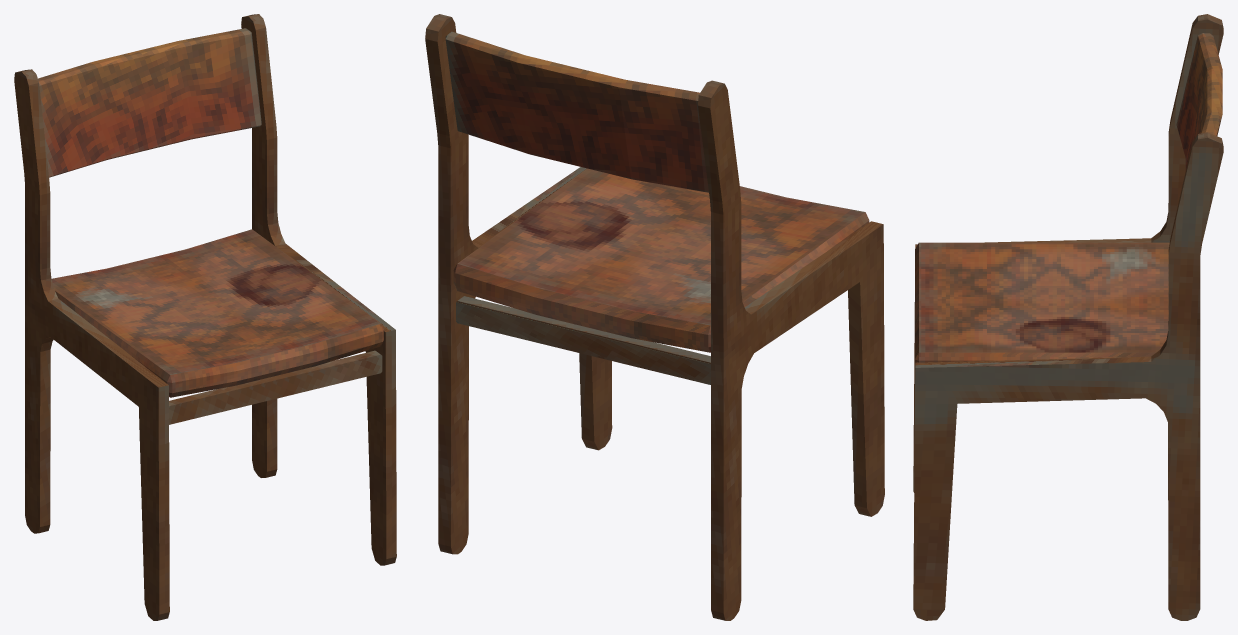
Rendered from TypeWriter.fbx.
3 views of the same model, side by side, from view 1: azimuth 30°, elevation 25°; view 2: azimuth 150°, elevation 25°; view 3: azimuth 270°, elevation 25° (orthographic). The views are drawn at different scales.
Visible parts, largest first — view 1: Куб.001; view 2: Куб.001; view 3: Куб.001.
Part boxes in pixels (box(x1,y1,x2,y2)): Куб.001: box(14, 14, 396, 620); Куб.001: box(425, 14, 884, 620); Куб.001: box(913, 14, 1223, 620).
Size of the model in its own units: 44.11 by 80.35 by 46.76.
1 material, 1 textured.
